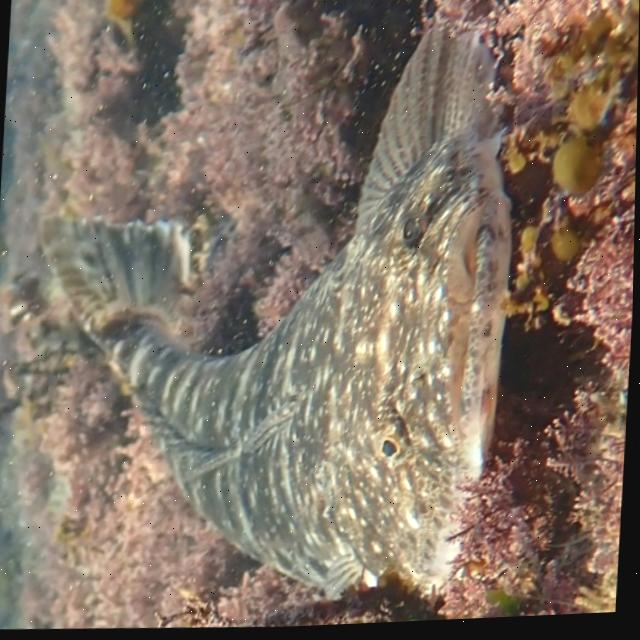Flathead: (7, 0, 565, 639)
